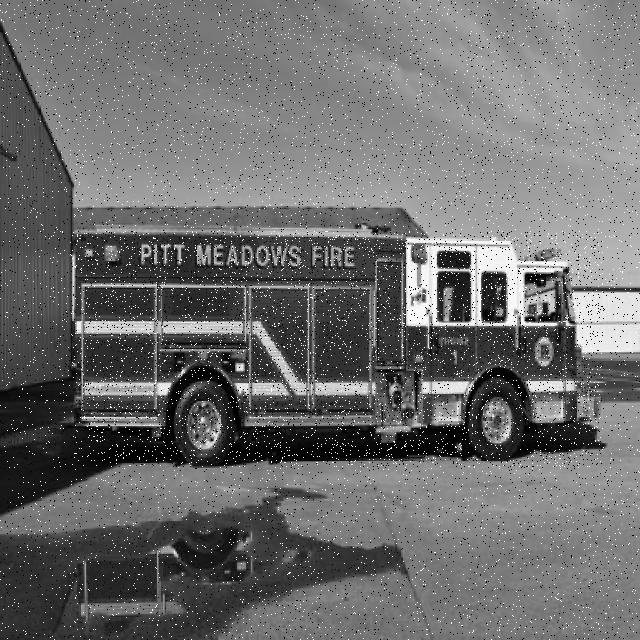Fire Truck: (71, 231, 603, 467)
